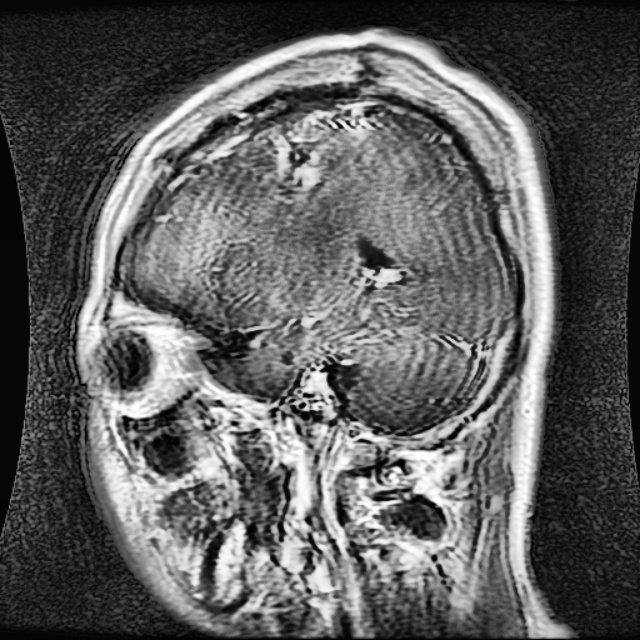Meningioma: (268, 130, 320, 185)
